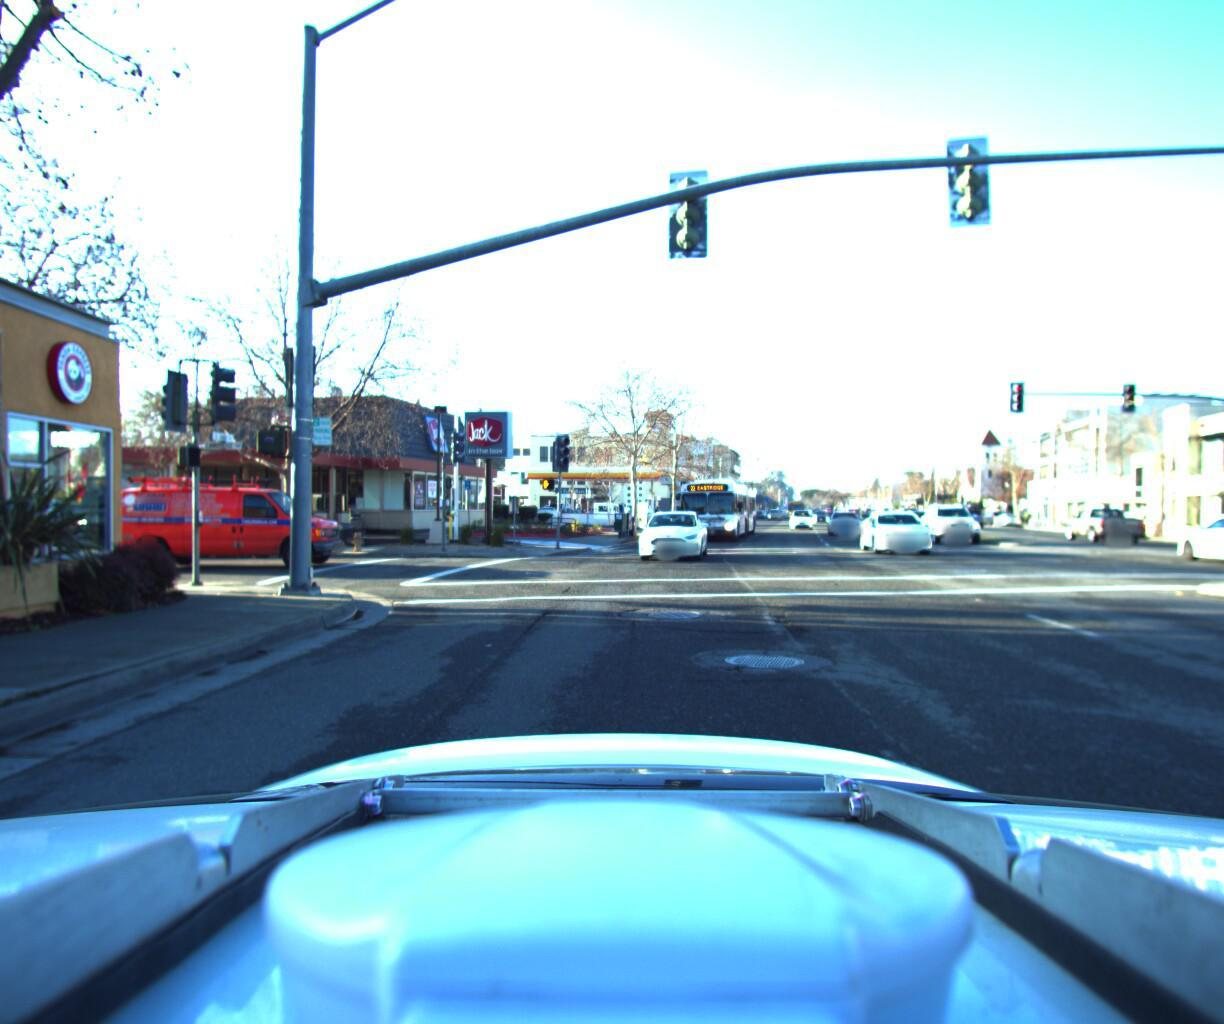bus: (667, 463, 764, 542)
car: (90, 476, 353, 570), (250, 485, 370, 530), (629, 496, 708, 561), (864, 498, 958, 551), (1152, 501, 1224, 560), (1055, 497, 1142, 538), (915, 492, 985, 540), (1096, 505, 1149, 531), (825, 501, 864, 532), (788, 500, 815, 524)
